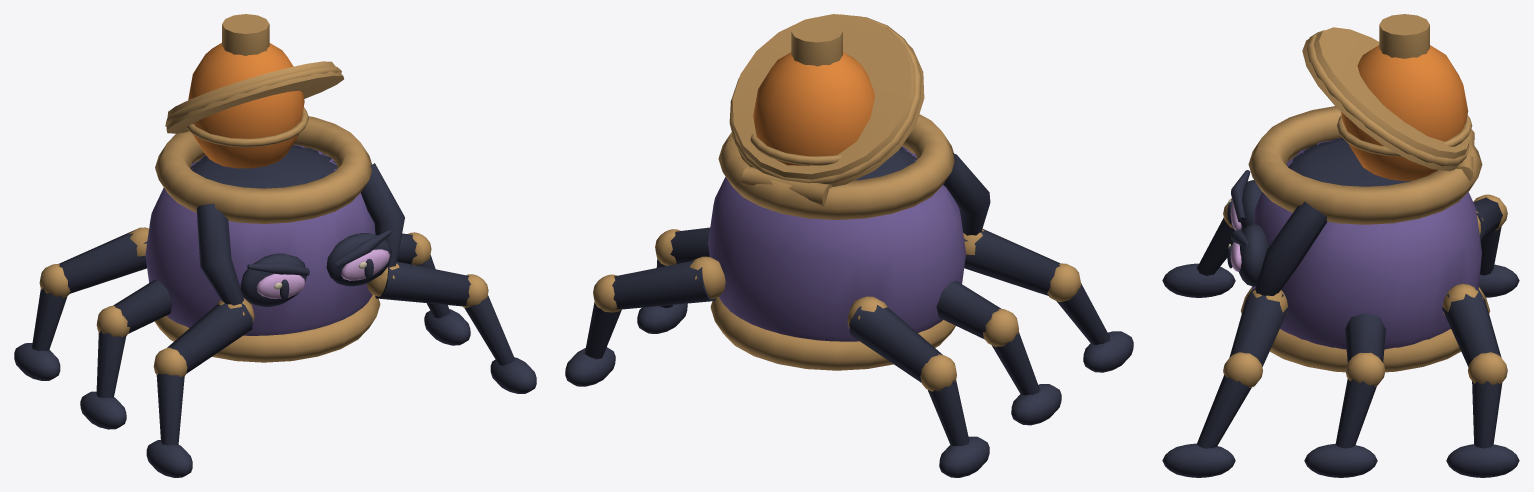
Rendered from miniboss_1.glb.
3 renders of one model, left to right at view 1: azimuth 30°, elevation 25°; view 2: azimuth 150°, elevation 25°; view 3: azimuth 270°, elevation 25°, orthographic. The views are drawn at different scales.
Parts seen in each view (by area): view 1: Email_BestiaireSculpte, Email_Art_bouchon_0, Email_Art_tete_0, Email_Art_tibia_g_0, Email_Art_tibia_g_1, Email_Art_tibia_g_2, Email_Art_patte_d_0, Email_Art_patte_g_2, Email_Art_tibia_d_0, Email_Art_patte_g_0, Email_Art_tibia_d_1, Email_Art_patte_g_1; view 2: Email_BestiaireSculpte, Email_Art_tete_0, Email_Art_bouchon_0, Email_Art_patte_d_2, Email_Art_tibia_g_2, Email_Art_tibia_g_1, Email_Art_patte_g_2, Email_Art_tibia_g_0, Email_Art_patte_g_0, Email_Art_tibia_d_2, Email_Art_patte_g_1, Email_Art_tibia_d_1 (+1 smaller); view 3: Email_BestiaireSculpte, Email_Art_bouchon_0, Email_Art_tete_0, Email_Art_tibia_d_0, Email_Art_tibia_d_1, Email_Art_tibia_d_2, Email_Art_tibia_g_0, Email_Art_patte_d_2, Email_Art_patte_d_0, Email_Art_tibia_g_2, Email_Art_patte_d_1, Email_Art_patte_g_2.
Part boxes in pixels (x1,y1,x2,y2): Email_BestiaireSculpte: [145, 116, 404, 362]; Email_Art_bouchon_0: [186, 14, 308, 168]; Email_Art_tete_0: [165, 61, 343, 133]; Email_Art_tibia_g_0: [146, 347, 192, 477]; Email_Art_tibia_g_1: [80, 305, 129, 429]; Email_Art_tibia_g_2: [14, 264, 70, 380]; Email_Art_patte_d_0: [367, 261, 471, 306]; Email_Art_patte_g_2: [58, 227, 148, 293]; Email_Art_tibia_d_0: [462, 274, 536, 393]; Email_Art_patte_g_0: [167, 298, 254, 373]; Email_Art_tibia_d_1: [408, 232, 470, 345]; Email_Art_patte_g_1: [113, 280, 172, 333]; Email_BestiaireSculpte: [708, 114, 990, 370]; Email_Art_tete_0: [729, 14, 924, 186]; Email_Art_bouchon_0: [750, 20, 874, 165]; Email_Art_patte_d_2: [612, 256, 725, 309]; Email_Art_tibia_g_2: [920, 354, 989, 477]; Email_Art_tibia_g_1: [983, 309, 1061, 425]; Email_Art_patte_g_2: [847, 296, 942, 382]; Email_Art_tibia_g_0: [1047, 263, 1133, 372]; Email_Art_patte_g_0: [963, 228, 1060, 295]; Email_Art_tibia_d_2: [565, 274, 621, 386]; Email_Art_patte_g_1: [936, 281, 1001, 339]; Email_Art_tibia_d_1: [637, 229, 687, 333]; Email_BestiaireSculpte: [1227, 106, 1489, 372]; Email_Art_bouchon_0: [1337, 14, 1472, 181]; Email_Art_tete_0: [1302, 27, 1470, 171]; Email_Art_tibia_d_0: [1162, 352, 1262, 477]; Email_Art_tibia_d_1: [1304, 352, 1385, 477]; Email_Art_tibia_d_2: [1446, 352, 1519, 477]; Email_Art_tibia_g_0: [1162, 198, 1235, 297]; Email_Art_patte_d_2: [1442, 283, 1501, 367]; Email_Art_patte_d_0: [1229, 288, 1288, 366]; Email_Art_tibia_g_2: [1473, 194, 1519, 297]; Email_Art_patte_d_1: [1345, 313, 1385, 362]; Email_Art_patte_g_2: [1473, 197, 1502, 243].
Bounding box in the file's own units: 0.954 × 0.814 × 0.73.
